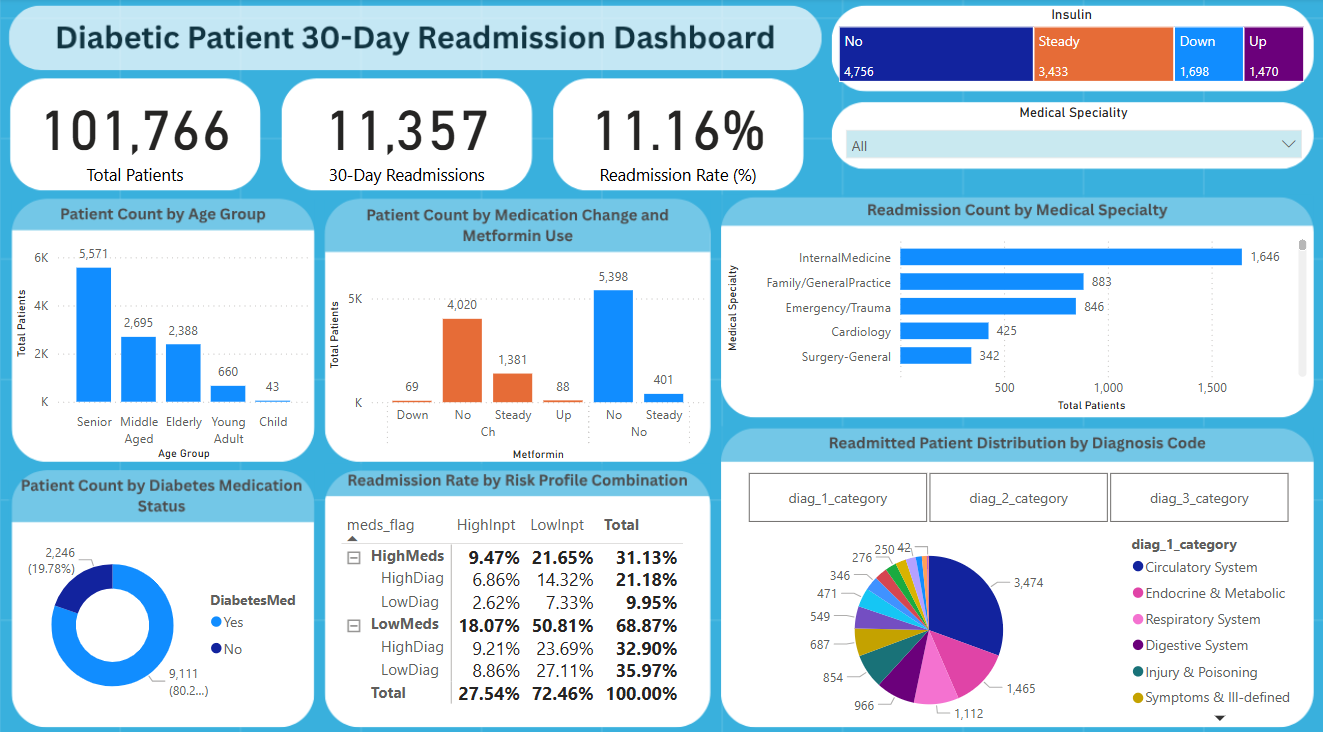

The dashboard page shown, as its layout file describes it:
{"tool":"powerbi","page":{"name":"Diabetic Patients 30-day Readmission Dashboard","canvas":[1280,720],"ordinal":0},"visuals":[{"type":"card","fields":{"Values":["Sum(diabetic_readmission_records.readmitted_flag)"]},"box":[273,73.8,242,116.2],"z":0},{"type":"card","fields":{"Values":["Count(diabetic_readmission_records.encounter_id)"]},"box":[11,74,241,116.2],"z":1000},{"type":"card","fields":{"Values":["diabetic_readmission_records.Readmission Rate (%)"]},"box":[535,73.8,242,116.2],"z":2000},{"type":"slicer","title":"Medical Speciality","fields":{"Values":["diabetic_readmission_records.medical_specialty"]},"box":[807.5,102.5,460,60],"z":3000},{"type":"clusteredBarChart","fields":{"Category":["diabetic_readmission_records.medical_specialty"],"Y":["Count(diabetic_readmission_records.encounter_id)"]},"box":[697.5,220,570,185],"z":4000},{"type":"columnChart","fields":{"Category":["diabetic_readmission_records.age_group"],"Y":["Count(diabetic_readmission_records.encounter_id)"]},"box":[11.2,225,293.8,226.2],"z":5000},{"type":"treemap","title":"Insulin","fields":{"Details":["diabetic_readmission_records.insulin"],"Values":["Count(diabetic_readmission_records.encounter_id)"]},"box":[806.2,8.8,458.8,77.5],"z":6000},{"type":"clusteredColumnChart","fields":{"Category":["diabetic_readmission_records.change","diabetic_readmission_records.metformin"],"Y":["Count(diabetic_readmission_records.encounter_id)"]},"box":[313.8,246.2,372.5,205],"z":7000},{"type":"donutChart","fields":{"Y":["Count(diabetic_readmission_records.encounter_id)"],"Category":["diabetic_readmission_records.diabetesMed"]},"box":[11.2,502.5,293.8,205],"z":8000},{"type":"pieChart","fields":{"Category":["diabetic_readmission_records.diag_1_category","diabetic_readmission_records.diag_2_category","diabetic_readmission_records.diag_3_category"],"Y":["Count(diabetic_readmission_records.encounter_id)"]},"box":[697.5,512.5,568.8,195],"z":9000},{"type":"slicer","fields":{"Values":["Diagnosis Parameter.Diagnosis Parameter"]},"box":[697.5,451.2,571.2,61.2],"z":10000},{"type":"pivotTable","fields":{"Rows":["diabetic_readmission_records.meds_flag","diabetic_readmission_records.diag_flag"],"Columns":["diabetic_readmission_records.inpt_flag"],"Values":["diabetic_readmission_records.Distribution of Readmitted Patients (%)"]},"box":[326.2,492.5,360,202.5],"z":11000}]}

Visuals, with their boxes in screenshot pixels (x1, y1, x2, y2), scaled from the page's 1280x720 canvas onto the 1323x732 screenshot:
card - Sum(diabetic_readmission_records.readmitted_flag): bbox=[282, 75, 532, 193]
card - Count(diabetic_readmission_records.encounter_id): bbox=[11, 75, 260, 193]
card - diabetic_readmission_records.Readmission Rate (%): bbox=[553, 75, 803, 193]
"Medical Speciality" slicer: bbox=[835, 104, 1310, 165]
clusteredBarChart - diabetic_readmission_records.medical_specialty x Count(diabetic_readmission_records.encounter_id): bbox=[721, 224, 1310, 412]
columnChart - diabetic_readmission_records.age_group x Count(diabetic_readmission_records.encounter_id): bbox=[12, 229, 315, 459]
"Insulin" treemap: bbox=[833, 9, 1307, 88]
clusteredColumnChart - diabetic_readmission_records.change x diabetic_readmission_records.metformin: bbox=[324, 250, 709, 459]
donutChart - Count(diabetic_readmission_records.encounter_id) x diabetic_readmission_records.diabetesMed: bbox=[12, 511, 315, 719]
pieChart - diabetic_readmission_records.diag_1_category x diabetic_readmission_records.diag_2_category: bbox=[721, 521, 1309, 719]
slicer - Diagnosis Parameter.Diagnosis Parameter: bbox=[721, 459, 1311, 521]
pivotTable - diabetic_readmission_records.meds_flag x diabetic_readmission_records.diag_flag: bbox=[337, 501, 709, 707]
